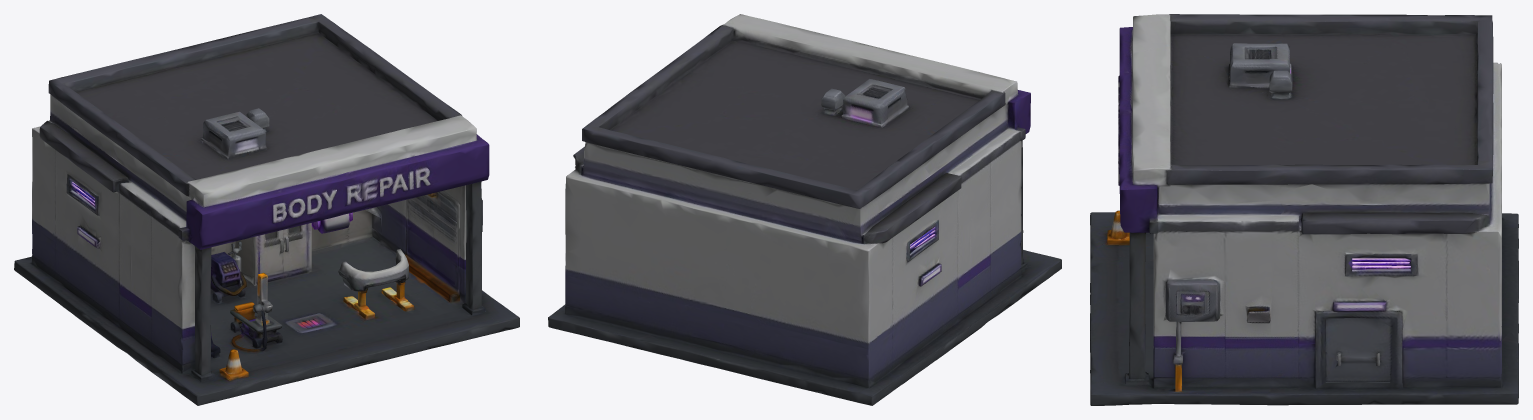
The model's file is body_repair_1k_real.glb.
The picture shows the model from 3 angles, left to right: view 1: azimuth 30°, elevation 25°; view 2: azimuth 150°, elevation 25°; view 3: azimuth 270°, elevation 25°; orthographic projection. The views are drawn at different scales.
Parts seen in each view (by area): view 1: tripo_node_9a09c828-fd1f-4123-aa44-975942c03193; view 2: tripo_node_9a09c828-fd1f-4123-aa44-975942c03193; view 3: tripo_node_9a09c828-fd1f-4123-aa44-975942c03193.
Part boxes in pixels (box(x1,y1,x2,y2)): tripo_node_9a09c828-fd1f-4123-aa44-975942c03193: box(14, 14, 519, 405); tripo_node_9a09c828-fd1f-4123-aa44-975942c03193: box(548, 14, 1061, 405); tripo_node_9a09c828-fd1f-4123-aa44-975942c03193: box(1090, 14, 1518, 405).
Size of the model in its own units: 1 by 0.5966 by 0.992.
Materials: 1 (1 with a texture image).
